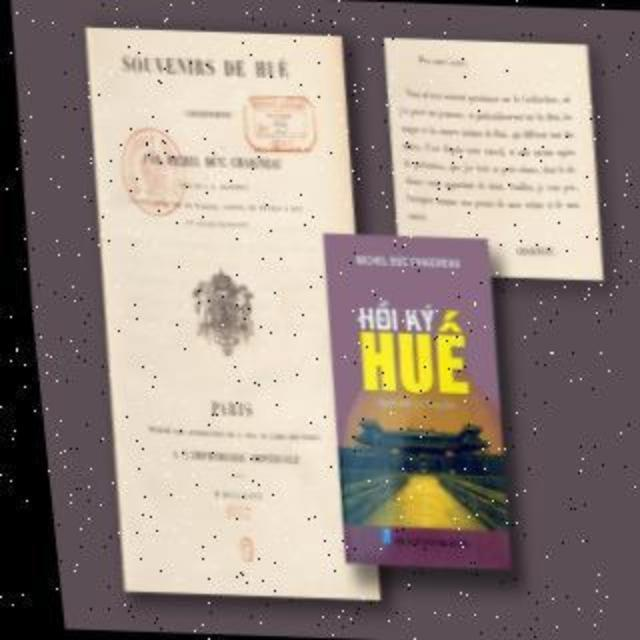book: (298, 202, 526, 600)
